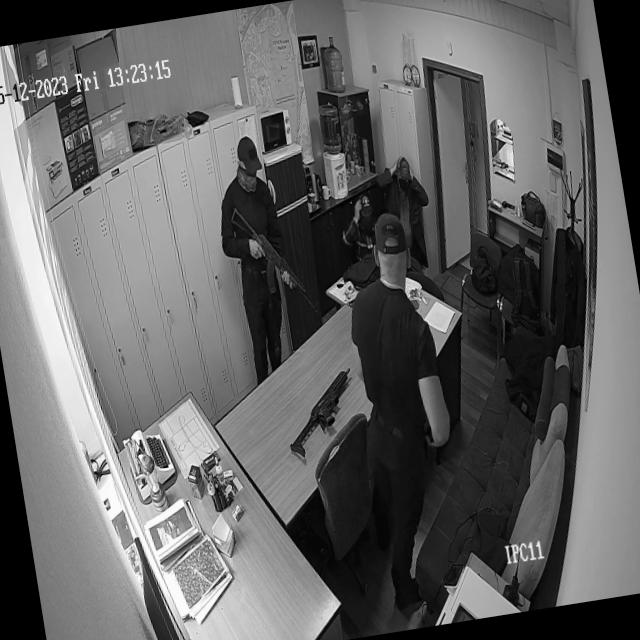gun: (279, 356, 374, 466), (232, 185, 308, 304)
person: (374, 148, 425, 213)
person with a gun: (330, 192, 472, 536), (200, 110, 310, 376)
